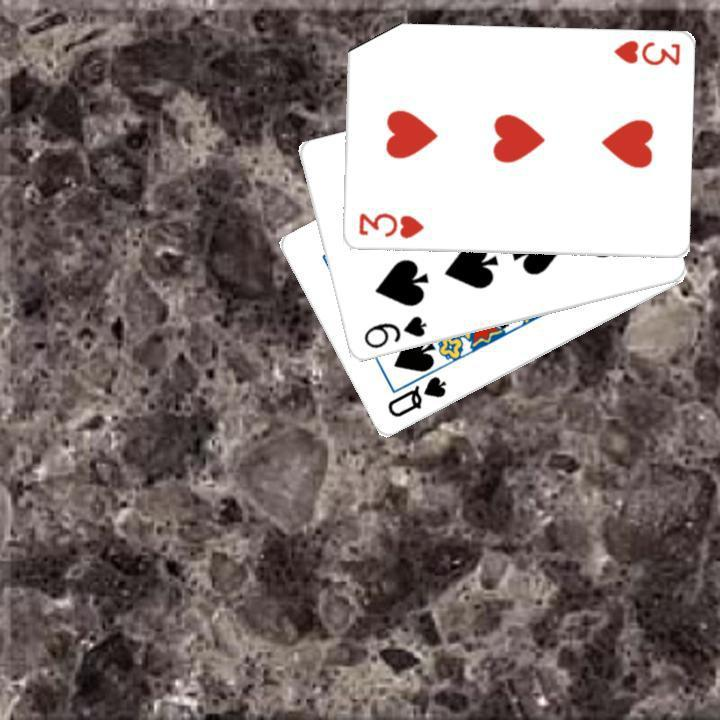3: (354, 208, 425, 241), (609, 37, 681, 68)
9: (359, 312, 429, 351)
Q: (382, 372, 449, 420)
